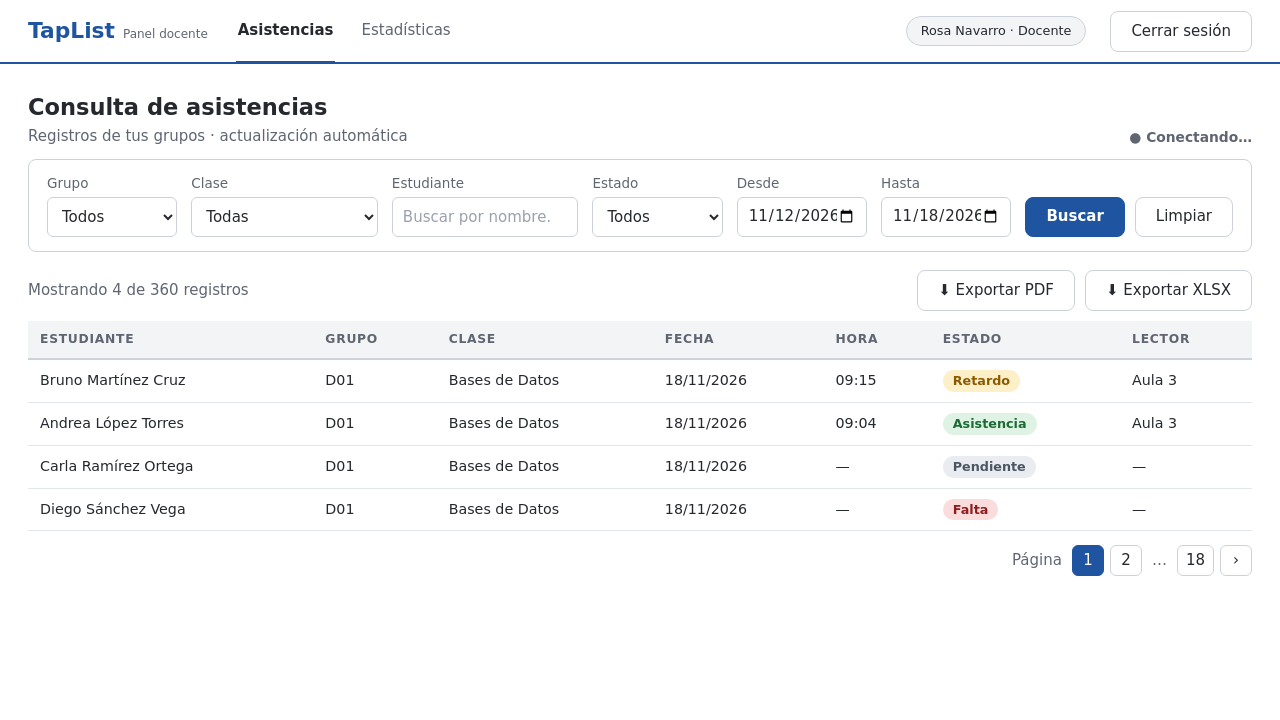
Test: P2 · Consulta de asistencias › pagina como en el boceto: «Página 1 2 … 18 ›»
The width and height of the screenshot is (1280, 720).
Expected: the text "Mostrando 4 de 360 registros" is shown, [28,280,249,301]
Expected: the text "…" is shown, [1152,551,1167,569]
Click the button named "Página 2". click: point(1126, 561)
box: [1110,545,1142,576]
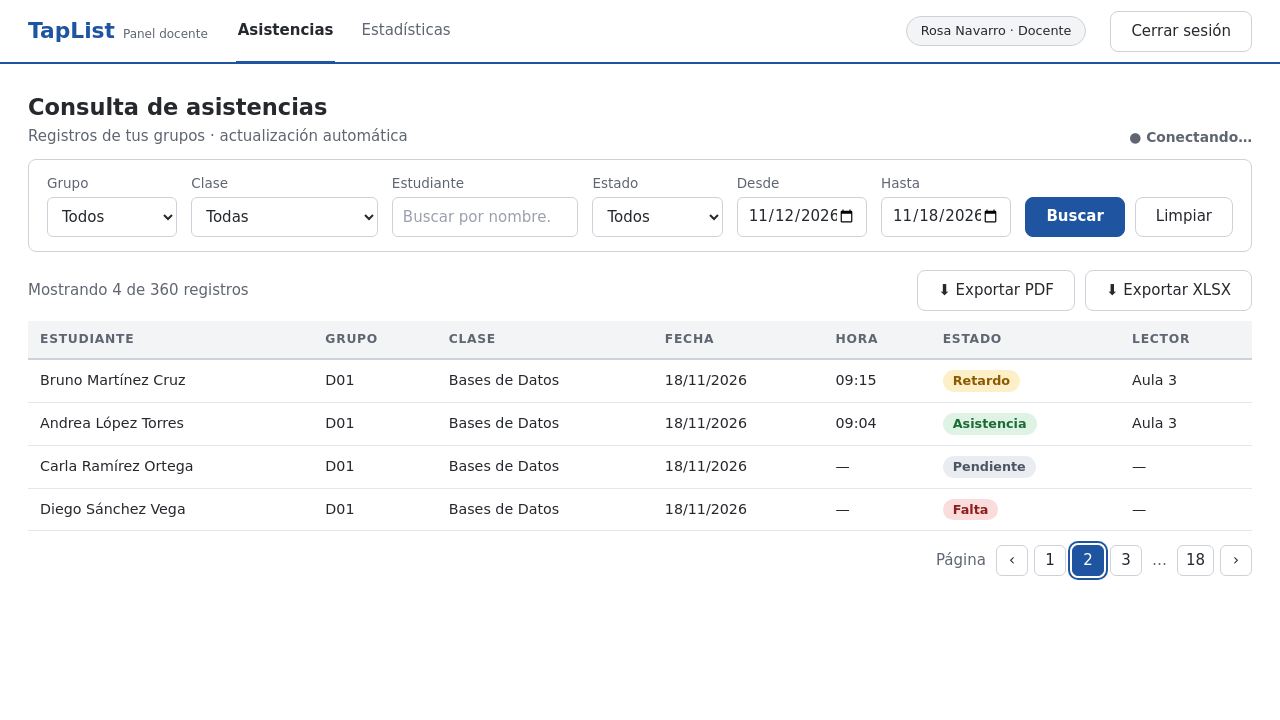
Expected: the buttons read "‹", "1", "2", "3", "18", "›", in this order, [996,545,1028,576]; [1034,545,1066,576]; [1072,545,1104,576]; [1110,545,1142,576]; [1177,545,1214,576]; [1220,545,1252,576]
